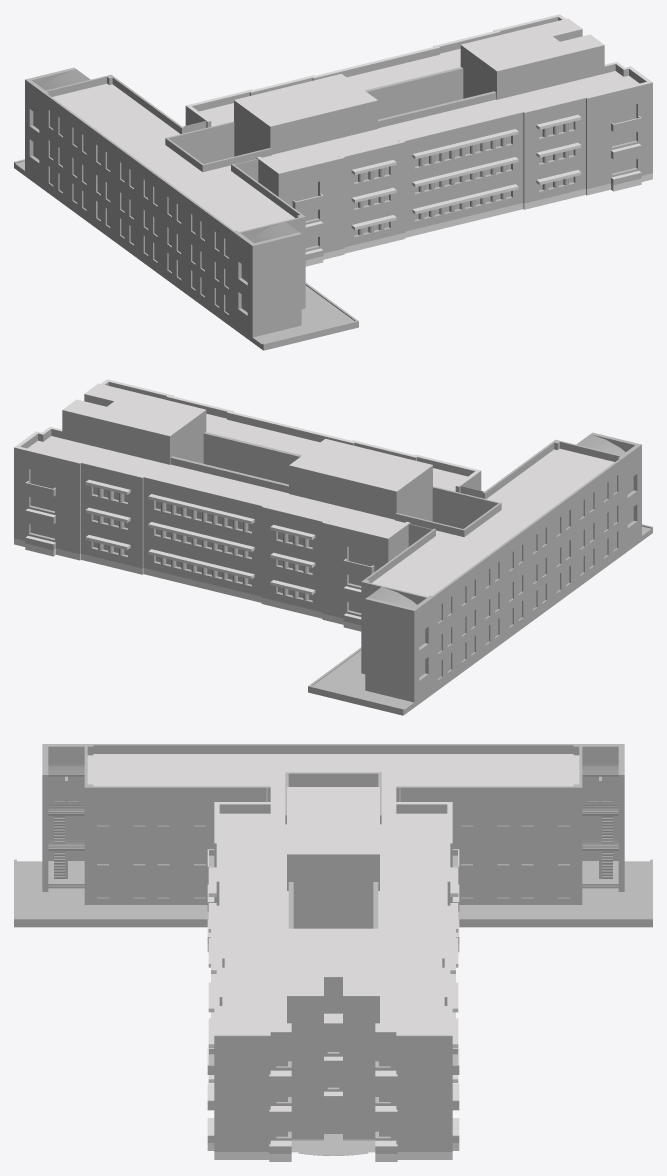
Rendered from EDIFICIO C1.FBX.
3 views of the same model, one above another, from view 1: azimuth 30°, elevation 25°; view 2: azimuth 150°, elevation 25°; view 3: azimuth 270°, elevation 25° (orthographic). The views are drawn at different scales.
Visible parts, largest first — view 1: CARAVISTA ROJIZA, BLANCO MATE, MURO JURIDICAS, VENSIMPLE_JURIDICAS, VENHORIZONTAL_JURIDICAS, PAVIMENTO, VEN_JURIDICAS, GRIS CLARO MATE, VENHOA_JURIDICAS, VIDRIO JURIDICAS; view 2: CARAVISTA ROJIZA, BLANCO MATE, MURO JURIDICAS, VENSIMPLE_JURIDICAS, VENHORIZONTAL_JURIDICAS, PAVIMENTO, VEN_JURIDICAS, GRIS CLARO MATE, VENHOA_JURIDICAS, VIDRIO JURIDICAS; view 3: BLANCO MATE, CARAVISTA ROJIZA, MURO JURIDICAS, PAVIMENTO, VENSIMPLE_JURIDICAS, GRIS CLARO MATE, VEN_JURIDICAS.
Part boxes in pixels (left/top/right/bottom): CARAVISTA ROJIZA: left=46, top=17, right=652, bottom=309; BLANCO MATE: left=52, top=14, right=652, bottom=266; MURO JURIDICAS: left=14, top=67, right=358, bottom=350; VENSIMPLE_JURIDICAS: left=50, top=111, right=228, bottom=313; VENHORIZONTAL_JURIDICAS: left=354, top=121, right=573, bottom=235; PAVIMENTO: left=15, top=161, right=354, bottom=344; VEN_JURIDICAS: left=33, top=104, right=636, bottom=312; GRIS CLARO MATE: left=41, top=69, right=298, bottom=243; VENHOA_JURIDICAS: left=302, top=132, right=636, bottom=248; VIDRIO JURIDICAS: left=183, top=121, right=258, bottom=181; CARAVISTA ROJIZA: left=14, top=382, right=620, bottom=674; BLANCO MATE: left=14, top=379, right=614, bottom=631; MURO JURIDICAS: left=308, top=432, right=652, bottom=715; VENSIMPLE_JURIDICAS: left=438, top=476, right=616, bottom=678; VENHORIZONTAL_JURIDICAS: left=93, top=486, right=312, bottom=600; PAVIMENTO: left=312, top=526, right=651, bottom=709; VEN_JURIDICAS: left=30, top=469, right=633, bottom=677; GRIS CLARO MATE: left=368, top=434, right=625, bottom=608; VENHOA_JURIDICAS: left=30, top=497, right=364, bottom=613; VIDRIO JURIDICAS: left=408, top=486, right=483, bottom=546; BLANCO MATE: left=87, top=754, right=579, bottom=1161; CARAVISTA ROJIZA: left=84, top=746, right=582, bottom=1153; MURO JURIDICAS: left=14, top=744, right=652, bottom=927; PAVIMENTO: left=17, top=861, right=649, bottom=1155; VENSIMPLE_JURIDICAS: left=97, top=804, right=569, bottom=1136; GRIS CLARO MATE: left=48, top=764, right=618, bottom=886; VEN_JURIDICAS: left=54, top=780, right=612, bottom=839.
Bounding box in the file's own units: 69 × 16.55 × 63.2.
